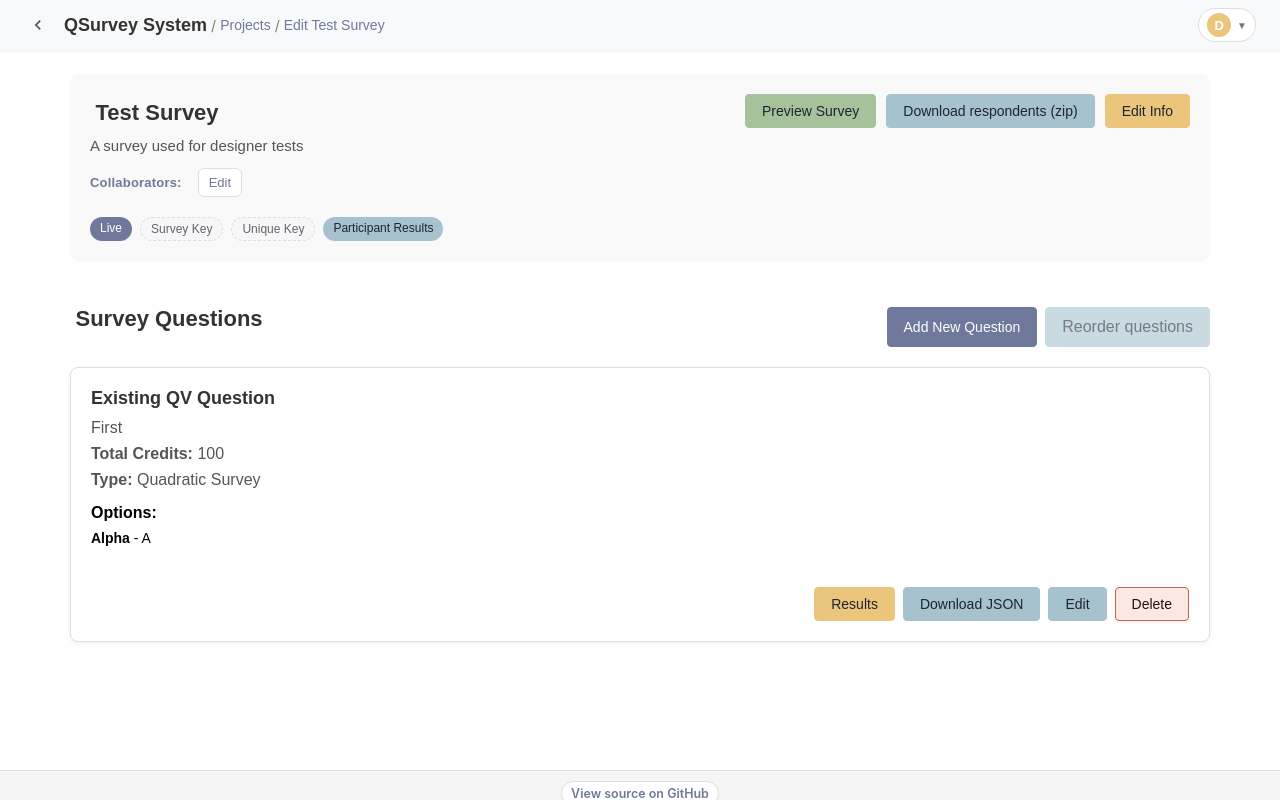
SurveyEdit designer workflows › shows an error when a download fails
Expected: the heading "Existing QV Question" is shown, [91,388,275,408]
Click the button with aria-label "download all survey respondents": [990, 111] box [886,94,1095,128]
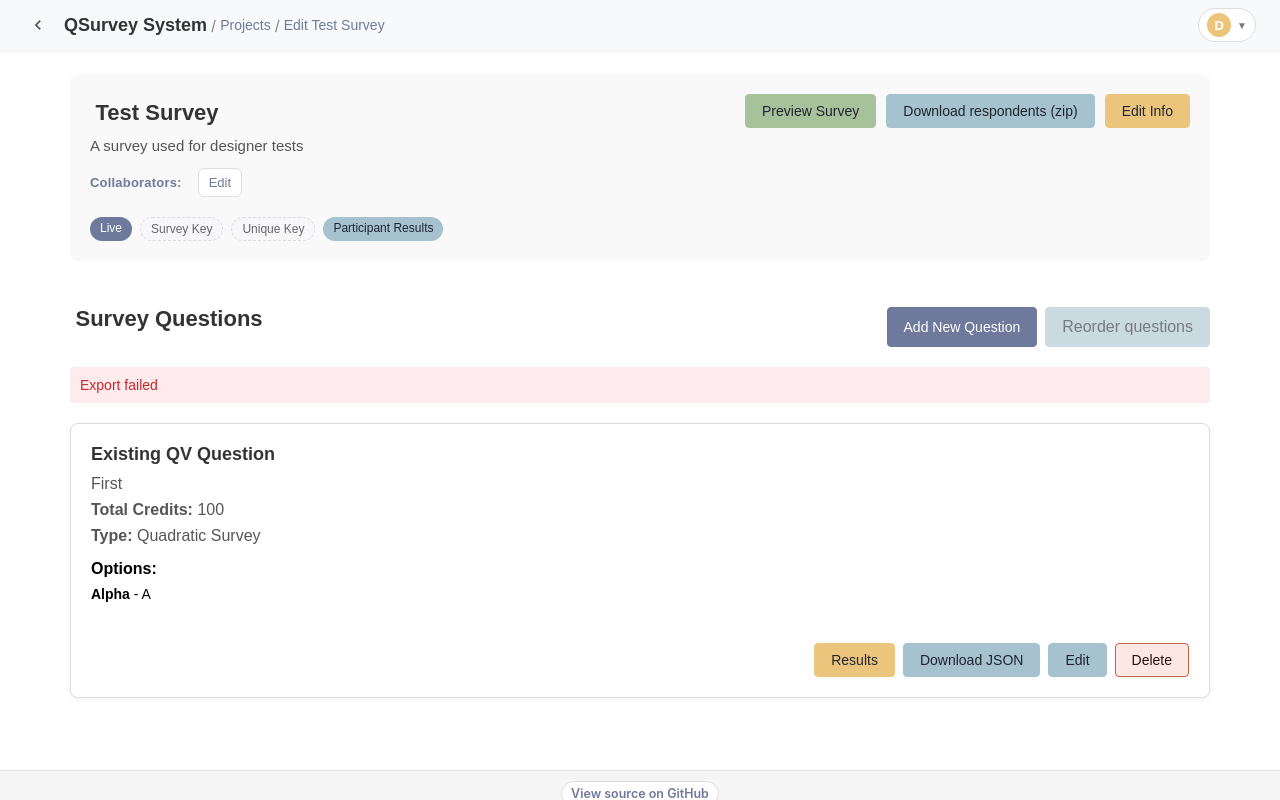
Expected: the text "Export failed" is shown, [70,367,1210,403]
